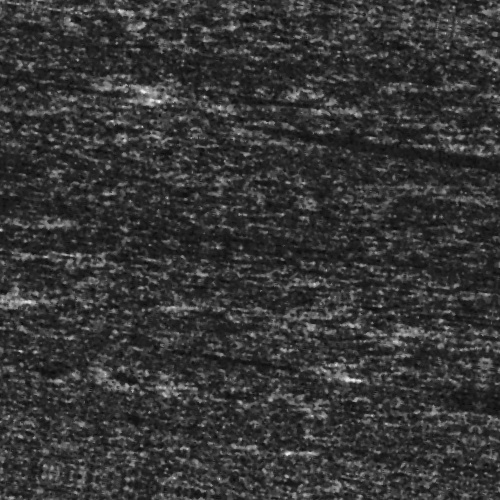object: (0, 101, 157, 112), (32, 107, 189, 118), (280, 90, 353, 101), (0, 326, 82, 335), (303, 356, 396, 363), (492, 282, 500, 289)
shadow: (317, 121, 500, 134), (175, 90, 316, 101), (147, 356, 349, 363), (0, 107, 110, 118), (0, 101, 78, 112), (398, 282, 500, 289), (0, 326, 29, 335)
